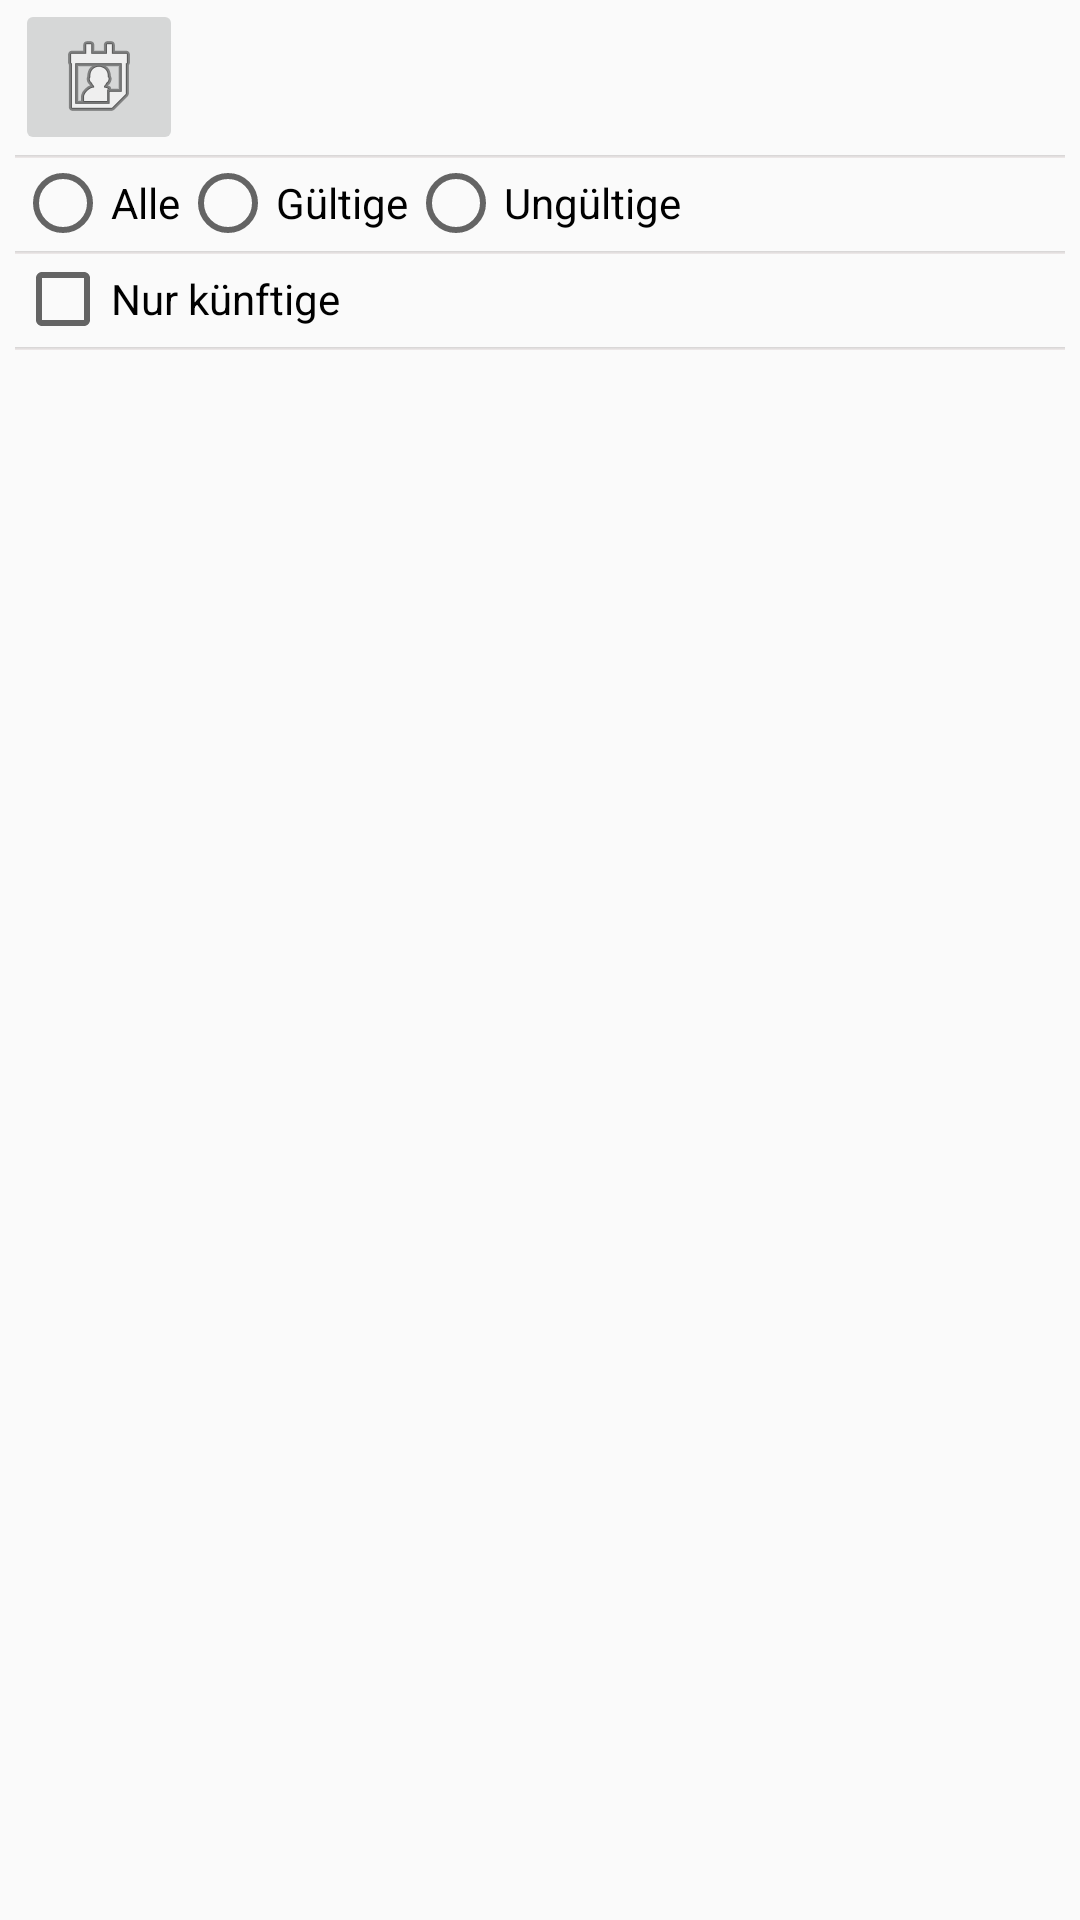

Icon click points for this 1080 × 1920 phone screenshot, format [x,y]:
calendar: [99,77]
